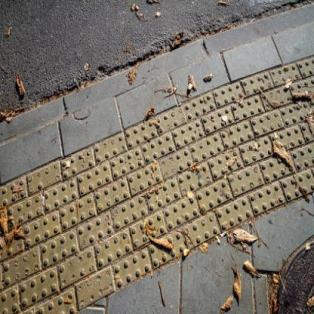Podoctatil: (0, 53, 313, 314)
